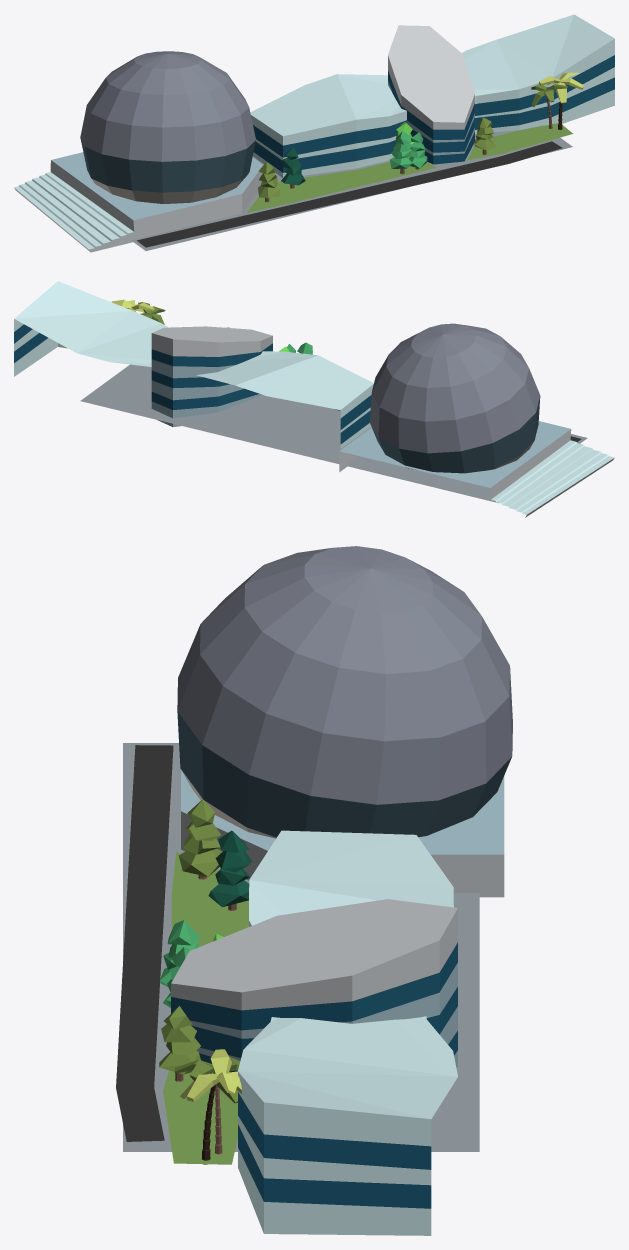
The model's file is PY_Env3.fbx.
3 views of the same model, one above another, from view 1: azimuth 30°, elevation 25°; view 2: azimuth 150°, elevation 25°; view 3: azimuth 270°, elevation 25° (orthographic). The views are drawn at different scales.
Parts seen in each view (by area): view 1: PY_Env3; view 2: PY_Env3; view 3: PY_Env3.
Boxes of the visible parts, x1,y1,x2,y2 form: PY_Env3: [14, 14, 614, 252]; PY_Env3: [14, 281, 614, 517]; PY_Env3: [116, 546, 512, 1235].
Size of the model in its own units: 10286 by 2498 by 3285.
